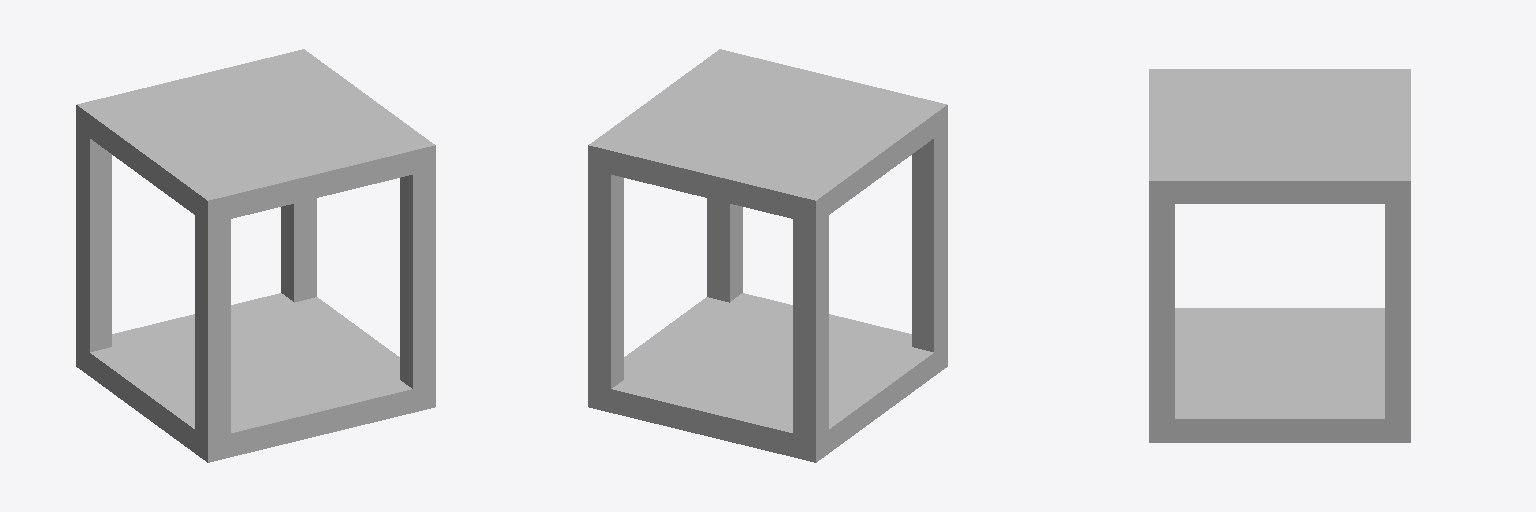
Rendered from wallSet_0.obj.
The picture shows the model from 3 angles: view 1: azimuth 30°, elevation 25°; view 2: azimuth 150°, elevation 25°; view 3: azimuth 270°, elevation 25°; orthographic projection.
Parts seen in each view (by area): view 1: wallSet_0_Cube.010; view 2: wallSet_0_Cube.010; view 3: wallSet_0_Cube.010.
Part boxes in pixels (x1,y1,x2,y2): wallSet_0_Cube.010: (76, 49, 435, 462); wallSet_0_Cube.010: (588, 49, 947, 462); wallSet_0_Cube.010: (1149, 69, 1410, 442).
Size of the model in its own units: 2 by 2.2 by 2.